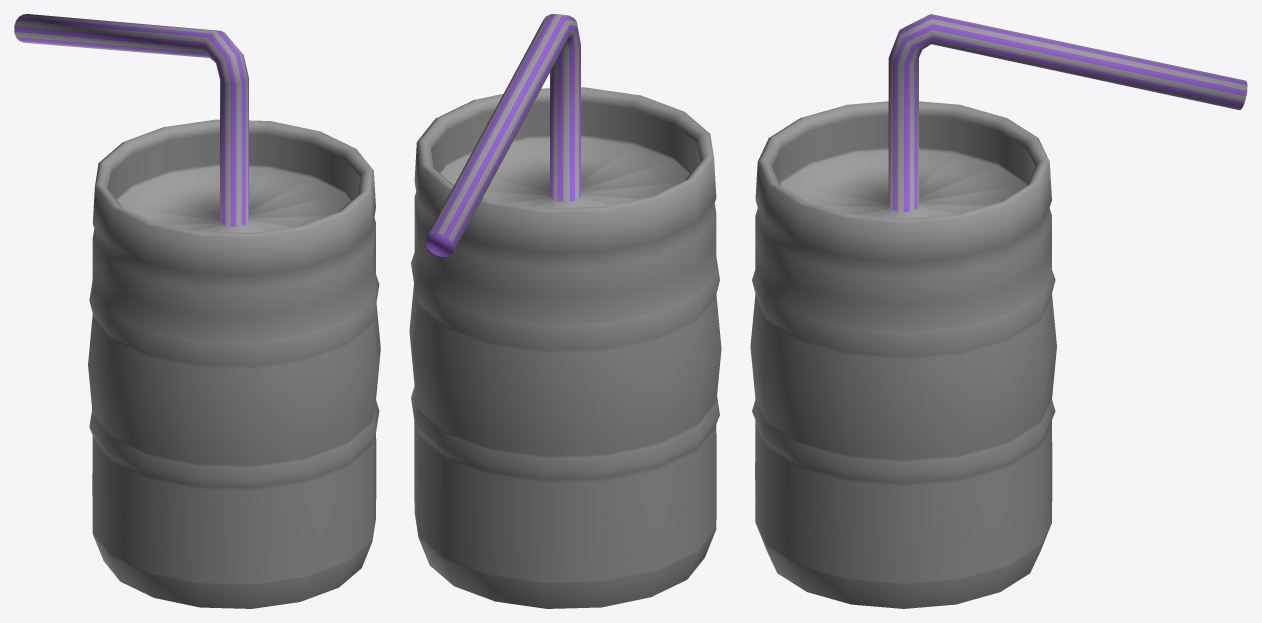
File: Keg_1.fbx
3 renders of one model, left to right at view 1: azimuth 30°, elevation 25°; view 2: azimuth 150°, elevation 25°; view 3: azimuth 270°, elevation 25°, orthographic. The views are drawn at different scales.
Visible parts, largest first — view 1: Keg; view 2: Keg; view 3: Keg.
Part boxes in pixels (x1,y1,x2,y2): Keg: [14, 14, 380, 608]; Keg: [409, 14, 721, 608]; Keg: [750, 14, 1247, 608].
Bounding box in the file's own units: 97.28 × 187 × 158.
